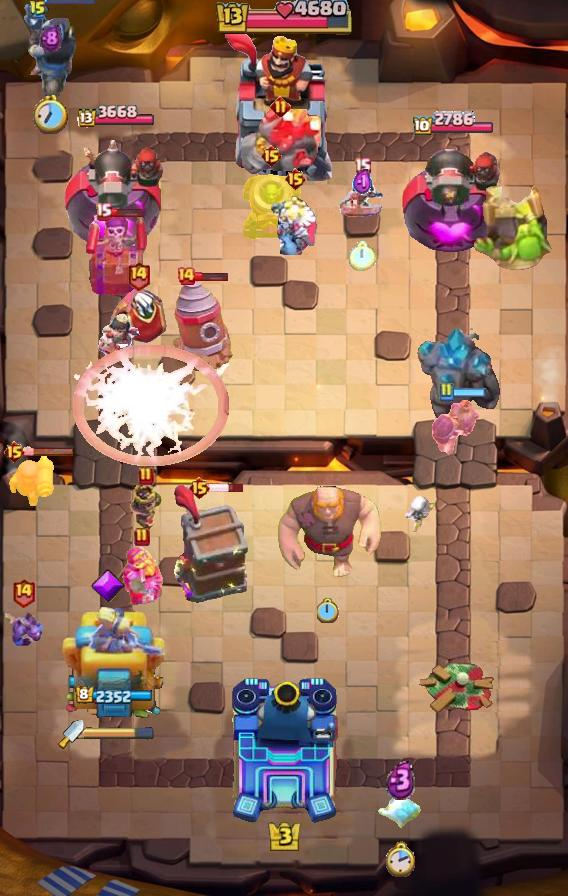balloon: (275, 485, 381, 581)
bar: (60, 607, 168, 731)
barbarian-evolution: (71, 344, 229, 466)
bat: (377, 793, 425, 831)
bomber-evolution: (126, 484, 166, 534)
cannoneer-tower: (416, 328, 504, 426), (239, 109, 321, 203)
clock: (213, 0, 355, 38)
dart-goblin: (173, 485, 251, 605)
electro-spirit: (386, 760, 416, 800), (38, 24, 61, 53), (352, 168, 372, 196)
elixir: (32, 94, 67, 133), (387, 841, 418, 879), (349, 241, 375, 271), (317, 598, 339, 623)
emote: (23, 446, 75, 457), (207, 482, 244, 494), (108, 206, 144, 218), (194, 270, 229, 282), (453, 386, 488, 398), (44, 0, 96, 6)
firecracker-evolution: (119, 544, 165, 606)
goblin-ball: (428, 394, 482, 456)
goblin-cage: (239, 172, 303, 242)
heal-spirit: (404, 492, 445, 532)
inferno-dragon: (21, 0, 79, 100)
king-tower: (223, 31, 345, 181), (228, 676, 340, 826)
king-tower-bar: (84, 727, 154, 741)
magic-archer: (173, 278, 233, 372)
mortar-evolution: (268, 193, 322, 255)
royal-delivery: (3, 605, 43, 653)
selected: (413, 111, 496, 138), (74, 105, 154, 130), (75, 686, 153, 706)
skeleton-dragon: (336, 169, 388, 227), (98, 314, 142, 374)
skeleton-king: (108, 282, 168, 348)
skeleton-king-bar: (86, 209, 148, 295)
skeleton-king-skill: (90, 568, 126, 604)
text: (126, 261, 151, 292), (12, 576, 37, 607), (260, 144, 283, 168), (285, 167, 308, 191), (3, 440, 26, 464), (189, 476, 212, 500), (270, 96, 291, 117), (176, 266, 196, 286), (29, 0, 47, 20), (353, 157, 371, 175), (438, 382, 454, 402), (138, 466, 154, 486), (134, 527, 150, 547), (96, 203, 113, 221)
tombstone: (7, 456, 55, 506)
tower-bar: (60, 132, 167, 256), (401, 138, 505, 256)
x-bow: (471, 178, 557, 274)
